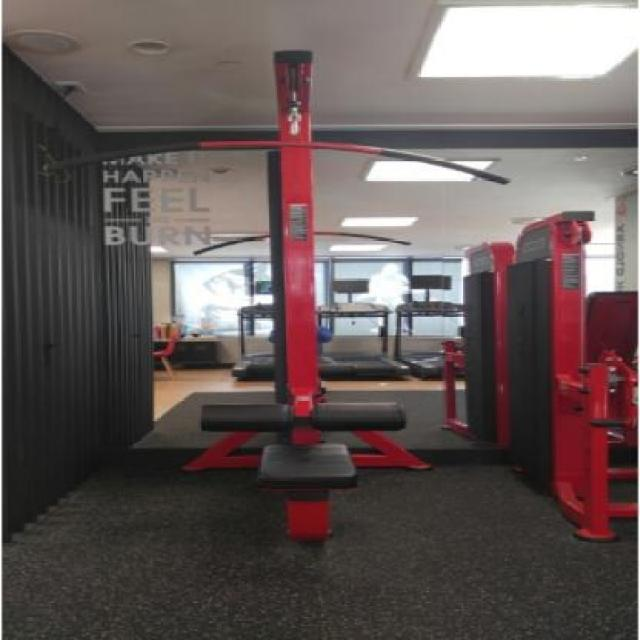Lat Pull Down: (43, 40, 568, 582)
